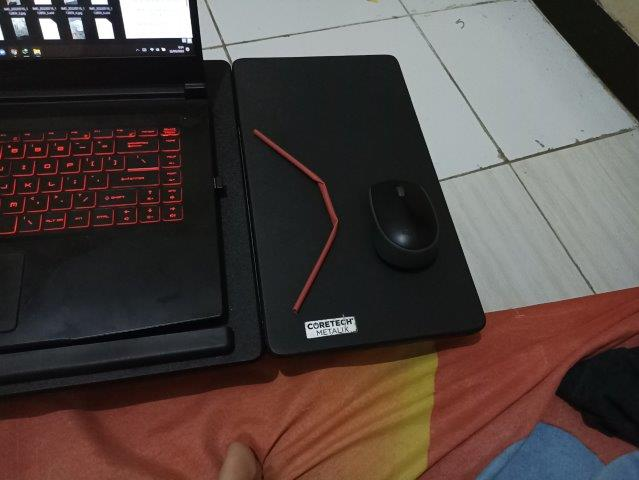sedotan: (254, 129, 338, 310)
